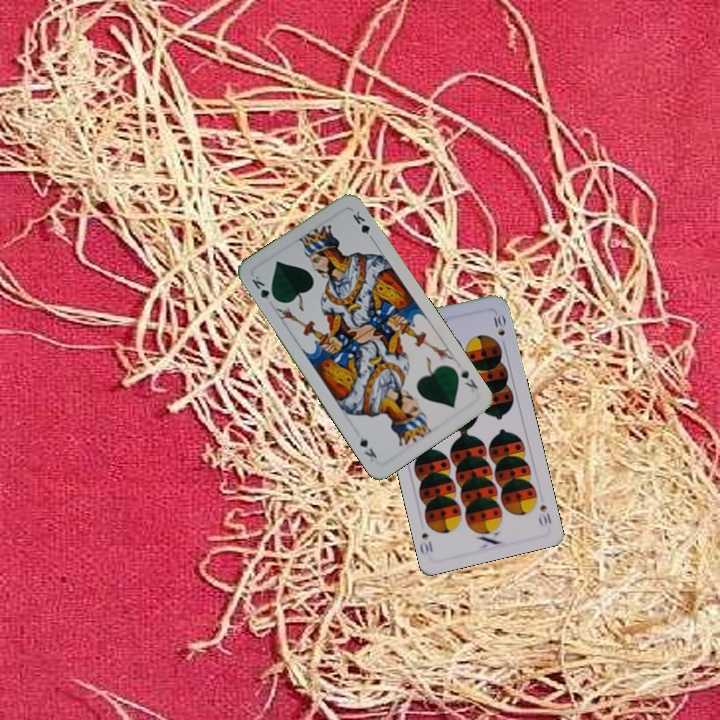GK: (247, 271, 280, 304), (456, 364, 481, 392)
S10: (535, 500, 554, 529)
